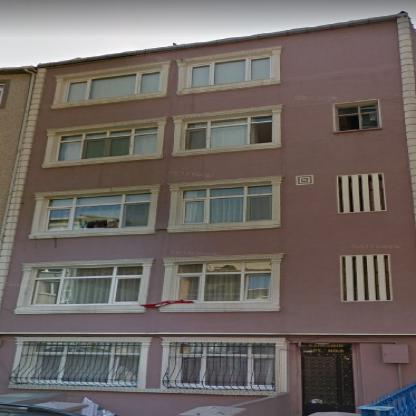door: (299, 343, 357, 415)
window: (170, 343, 274, 391), (24, 342, 138, 385), (27, 264, 141, 304), (47, 191, 151, 230), (174, 260, 272, 301), (180, 184, 274, 226), (56, 70, 160, 104), (55, 126, 156, 161), (177, 114, 271, 149), (186, 53, 272, 90), (338, 99, 380, 131)
